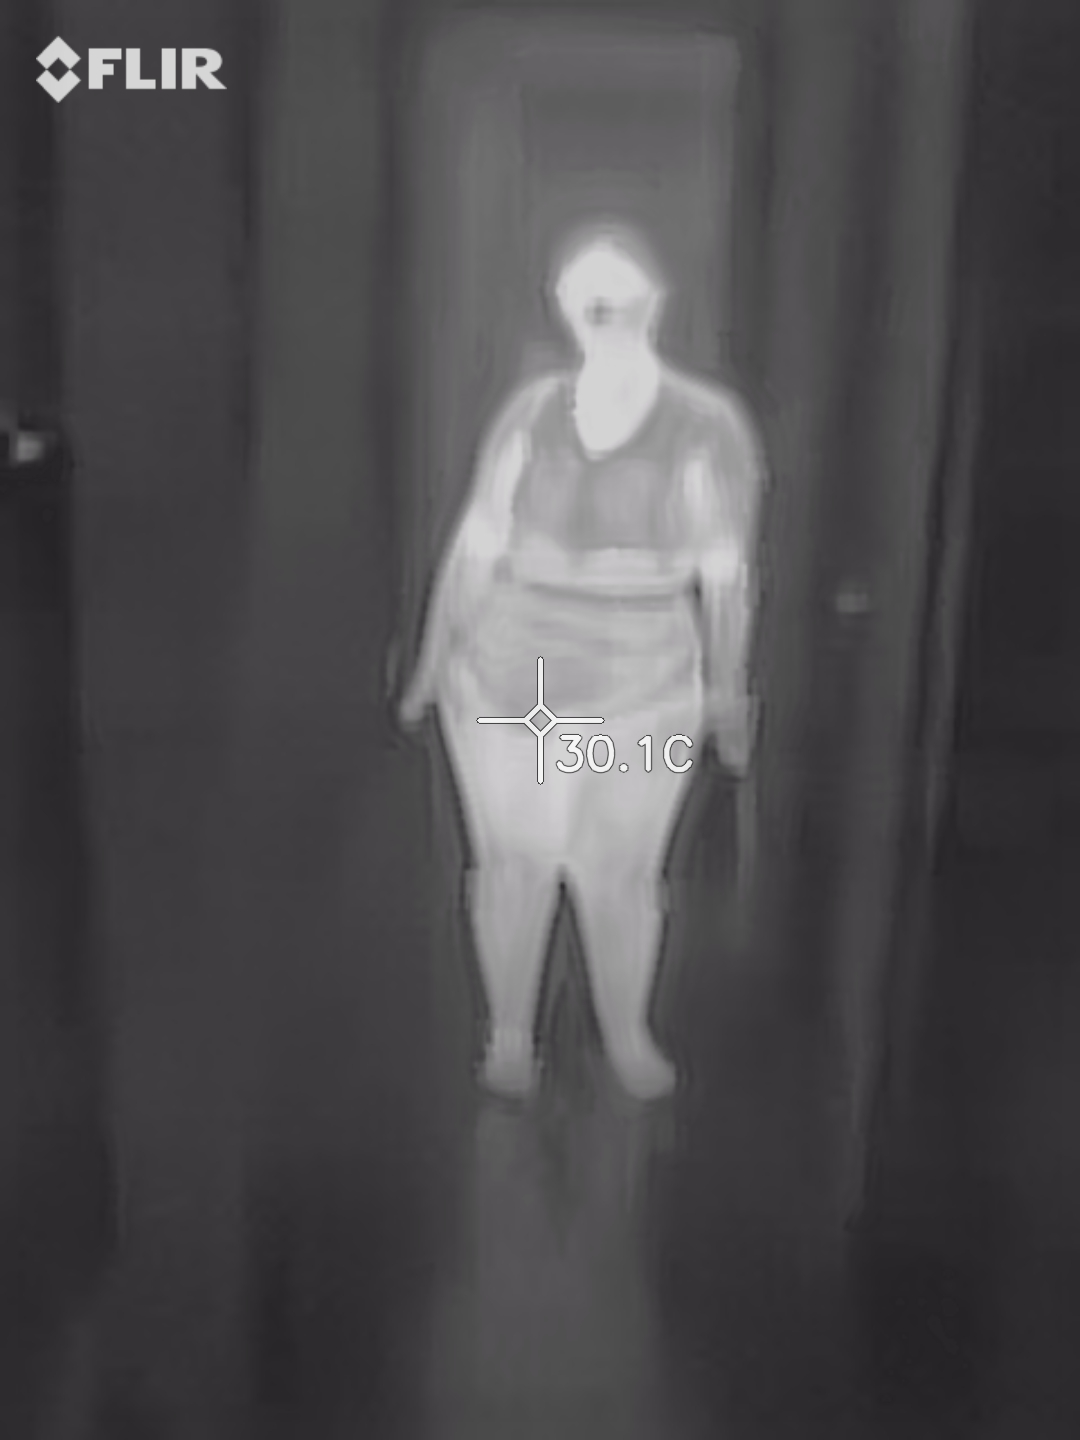head: (548, 218, 674, 377)
